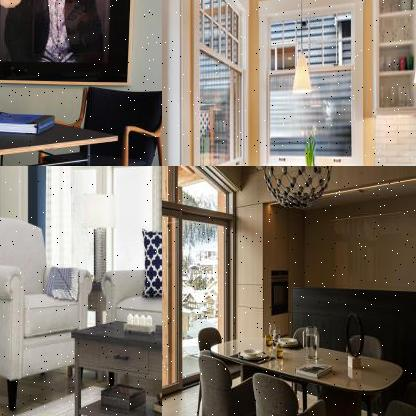table: (205, 320, 406, 415), (69, 312, 161, 415), (0, 95, 122, 165)
